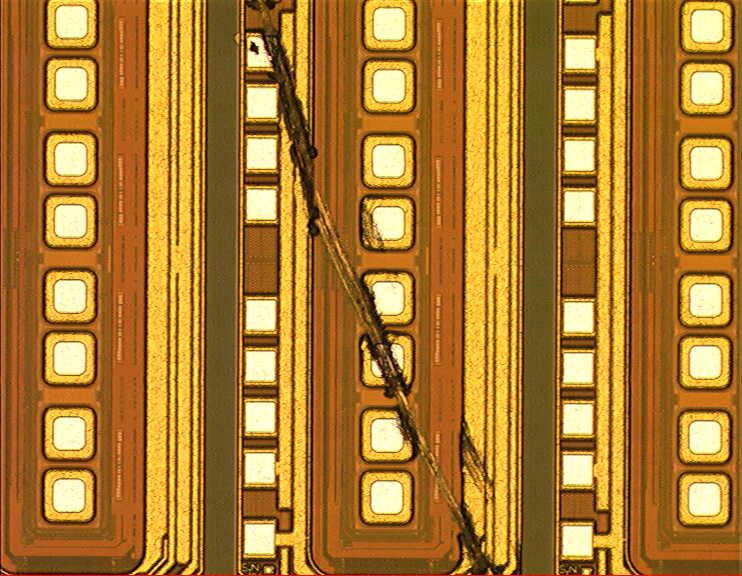SCRATCH: (236, 1, 553, 576)
